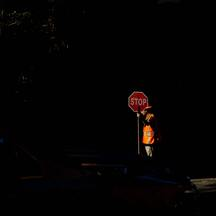Circle: (128, 91, 148, 112)
